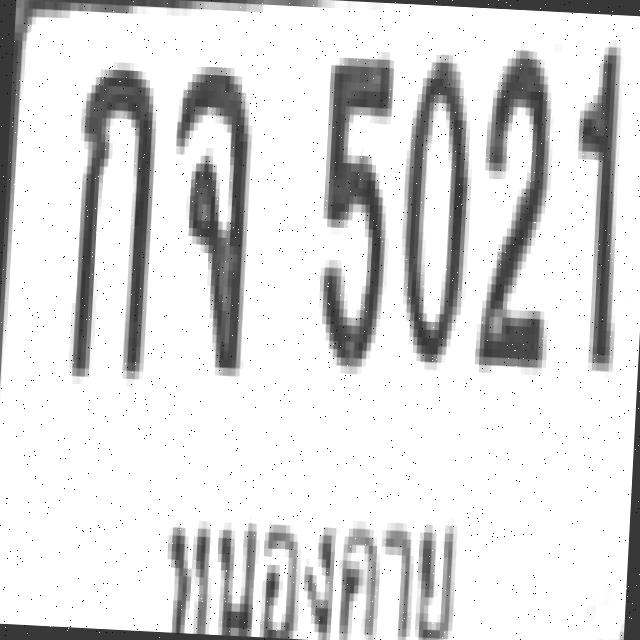0: (396, 44, 470, 356)
1: (562, 38, 622, 364)
10GorGai: (64, 52, 156, 372)
17ChorChan: (160, 56, 252, 368)
2: (471, 41, 558, 360)
5: (312, 49, 391, 368)
NongKhai: (143, 467, 475, 640)
